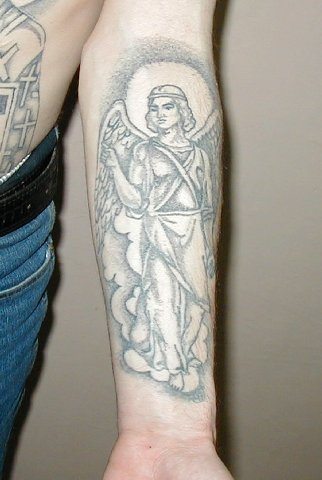tatu1_angel: (93, 51, 235, 412)
